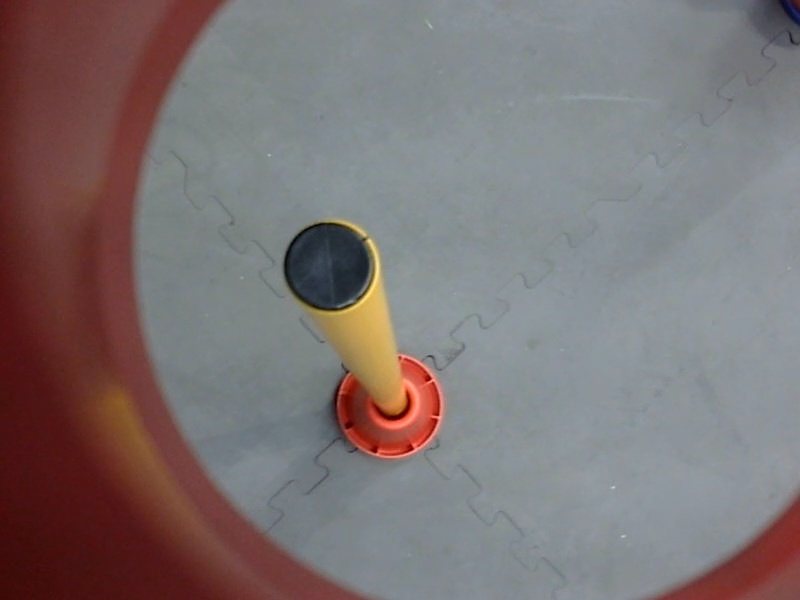tip: (273, 215, 389, 320)
